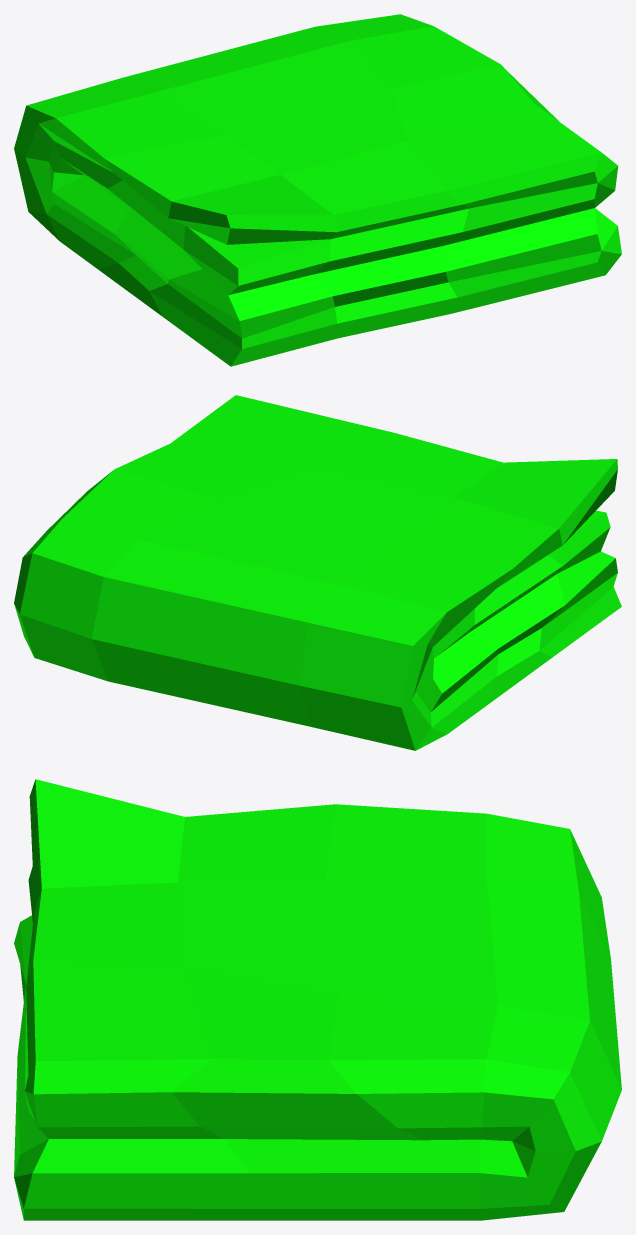
Rendered from SM_Fabric_Folded.fbx.
3 renders of one model, top to bottom at view 1: azimuth 30°, elevation 25°; view 2: azimuth 150°, elevation 25°; view 3: azimuth 270°, elevation 25°, orthographic. The views are drawn at different scales.
Visible parts, largest first — view 1: fabric-folded; view 2: fabric-folded; view 3: fabric-folded.
Part boxes in pixels (x1,y1,x2,y2): fabric-folded: [14, 14, 621, 366]; fabric-folded: [14, 395, 621, 750]; fabric-folded: [14, 779, 621, 1220].
Size of the model in its own units: 0.2311 by 0.0804 by 0.2228.
